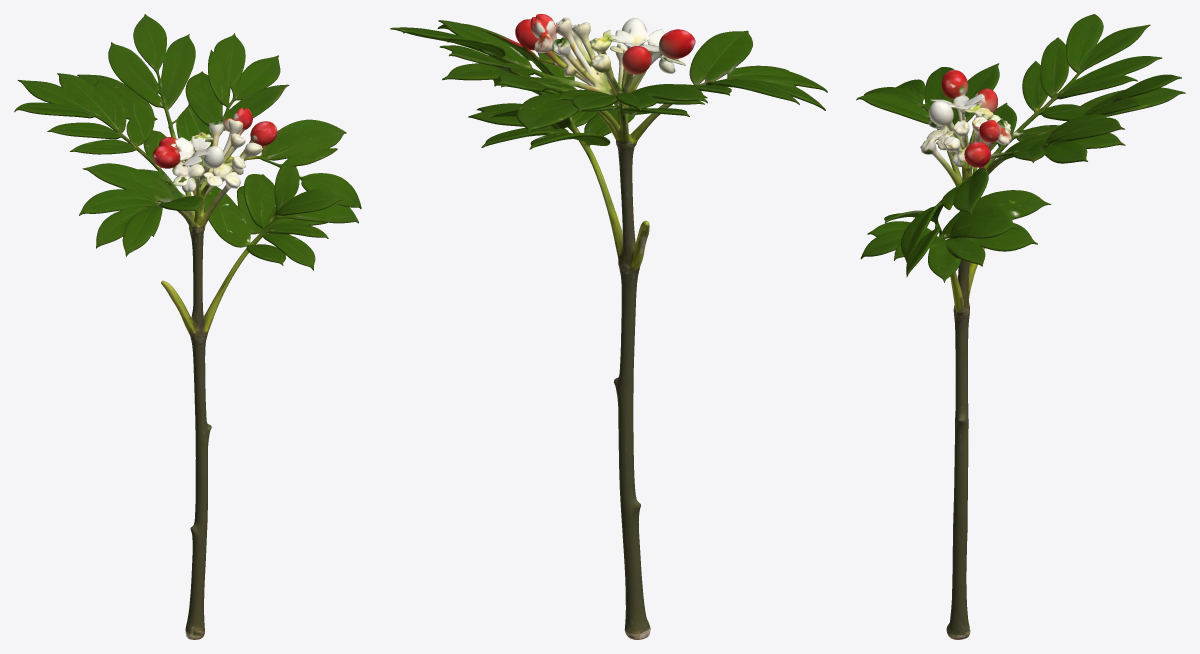
Rendered from jiulixiang.glb.
3 views of the same model, side by side, from view 1: azimuth 30°, elevation 25°; view 2: azimuth 150°, elevation 25°; view 3: azimuth 270°, elevation 25° (orthographic). The views are drawn at different scales.
Parts seen in each view (by area): view 1: node_0; view 2: node_0; view 3: node_0.
Boxes of the visible parts, bbox=[...] form: node_0: bbox=[14, 14, 361, 639]; node_0: bbox=[390, 14, 827, 639]; node_0: bbox=[856, 14, 1185, 639].
Bounding box in the file's own units: 0.5908 × 1.07 × 0.5429.
1 material, 1 textured.
